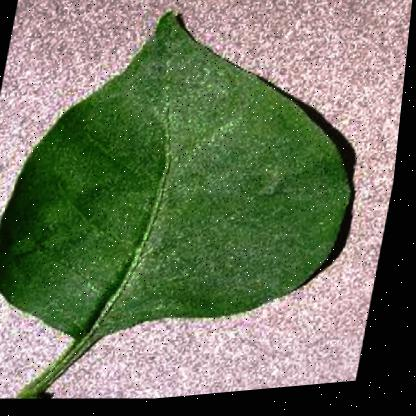Healthy: (0, 0, 393, 415)
